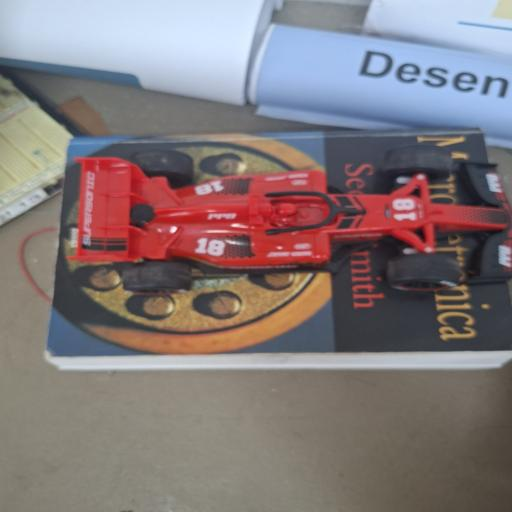carro: (69, 146, 511, 293)
